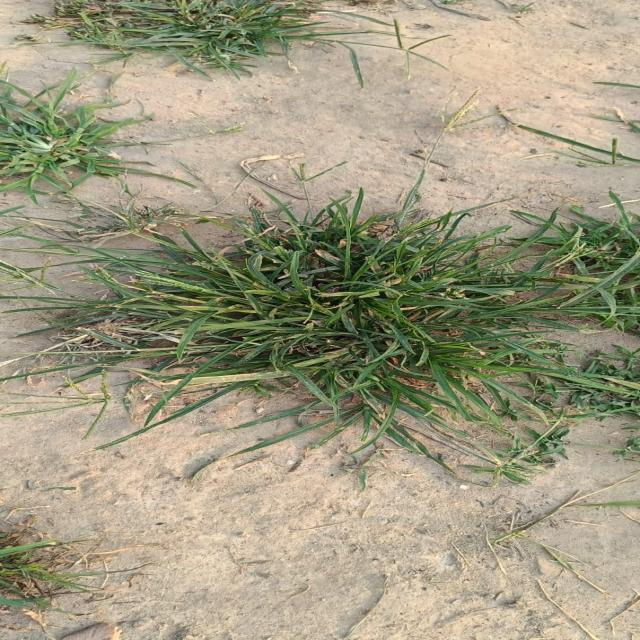plant: (20, 194, 640, 480)
